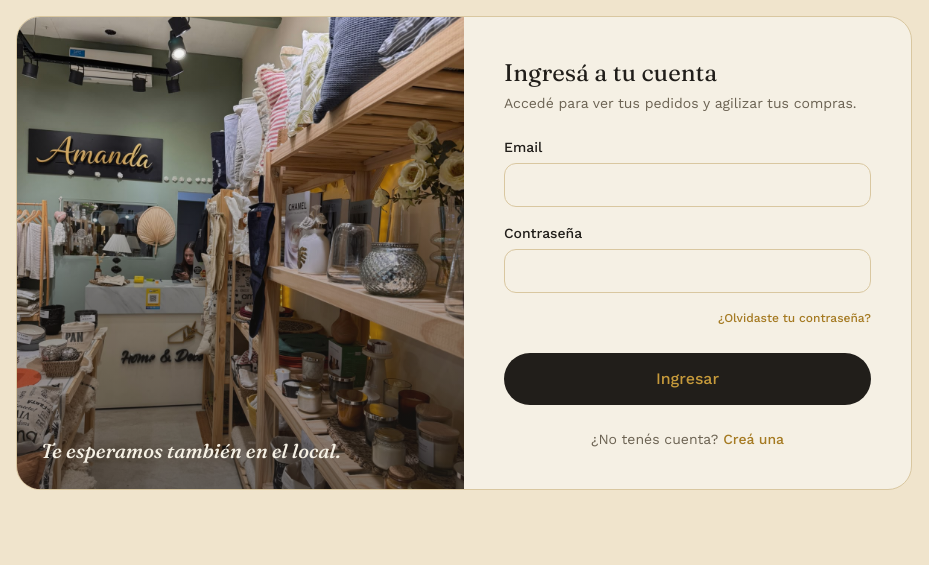
Test case: Login › muestra un error cuando las credenciales son incorrectas
The width and height of the screenshot is (929, 565).
Type "cliente@example.com" into the field labelled "Email". click: point(688, 185)
box: [504,163,871,207]
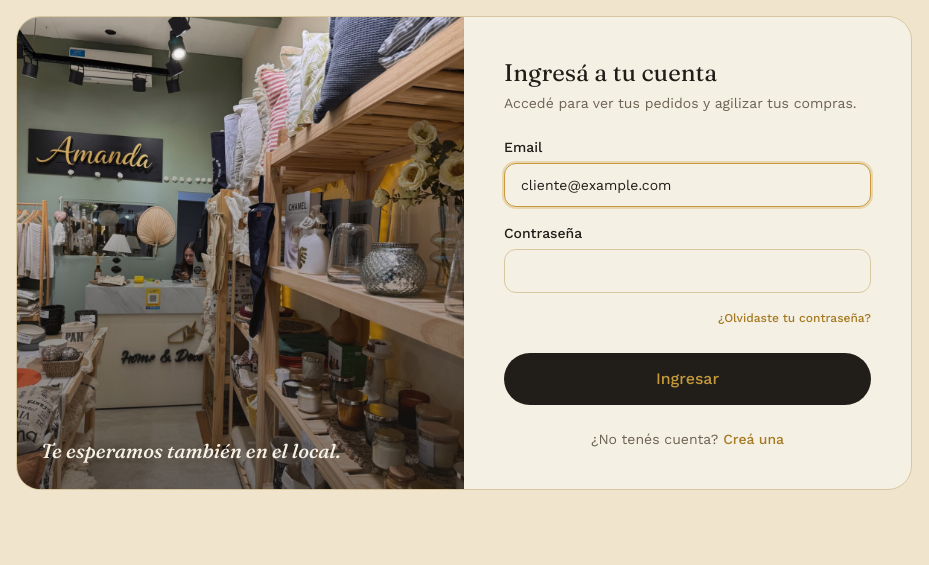
Type "incorrecta" into the password field labelled "Contraseña". click: point(688, 271)
box: [504,249,871,293]
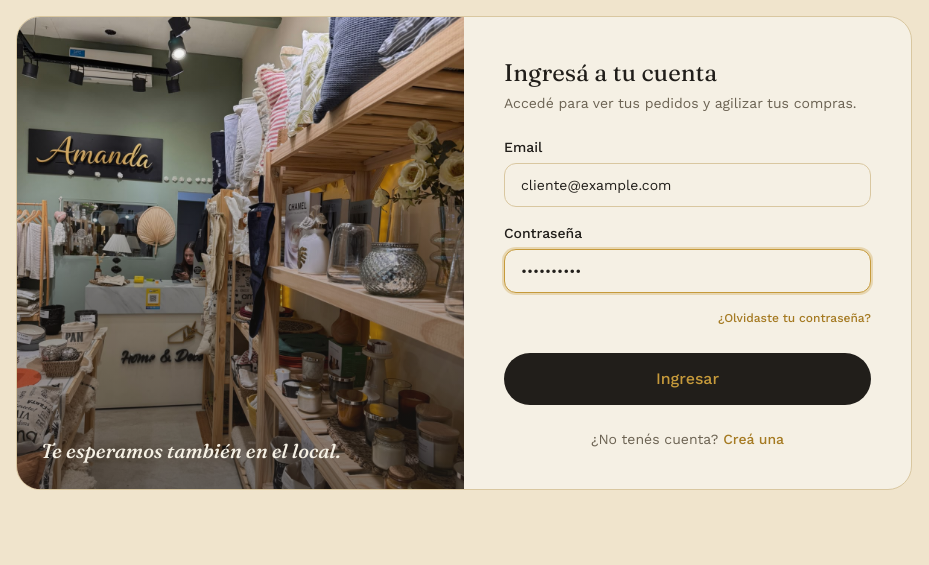
Click the button "Ingresar". click: point(688, 379)
box: [504,353,871,405]
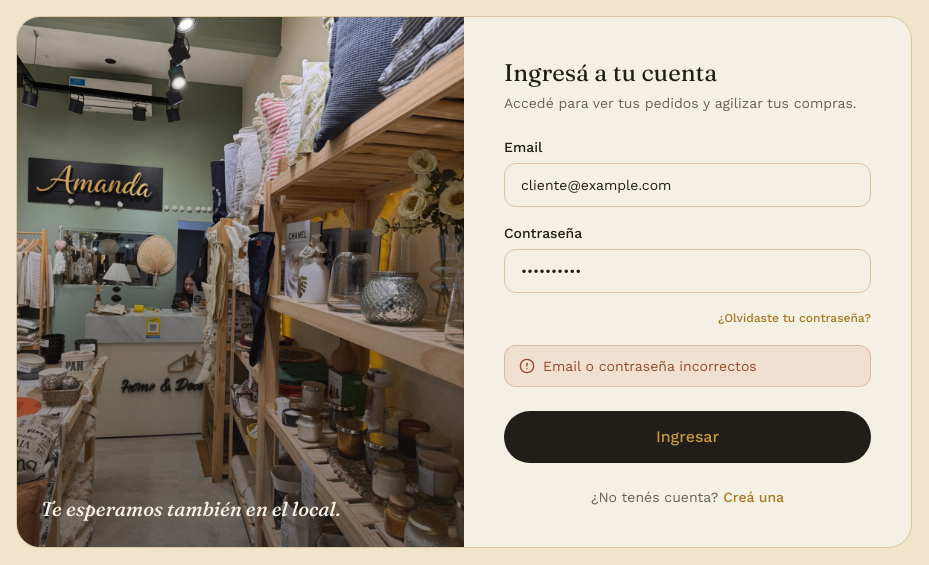
Now the text "Email o contraseña incorrectos" is shown, box [543,356,757,376]
